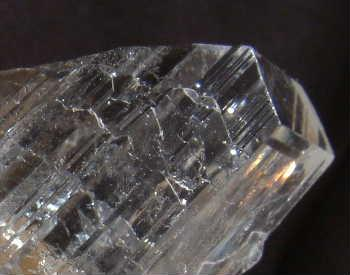gypsum: (0, 44, 335, 274)
